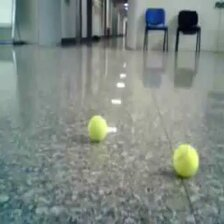tennis: (173, 144, 198, 177), (88, 115, 106, 142)
